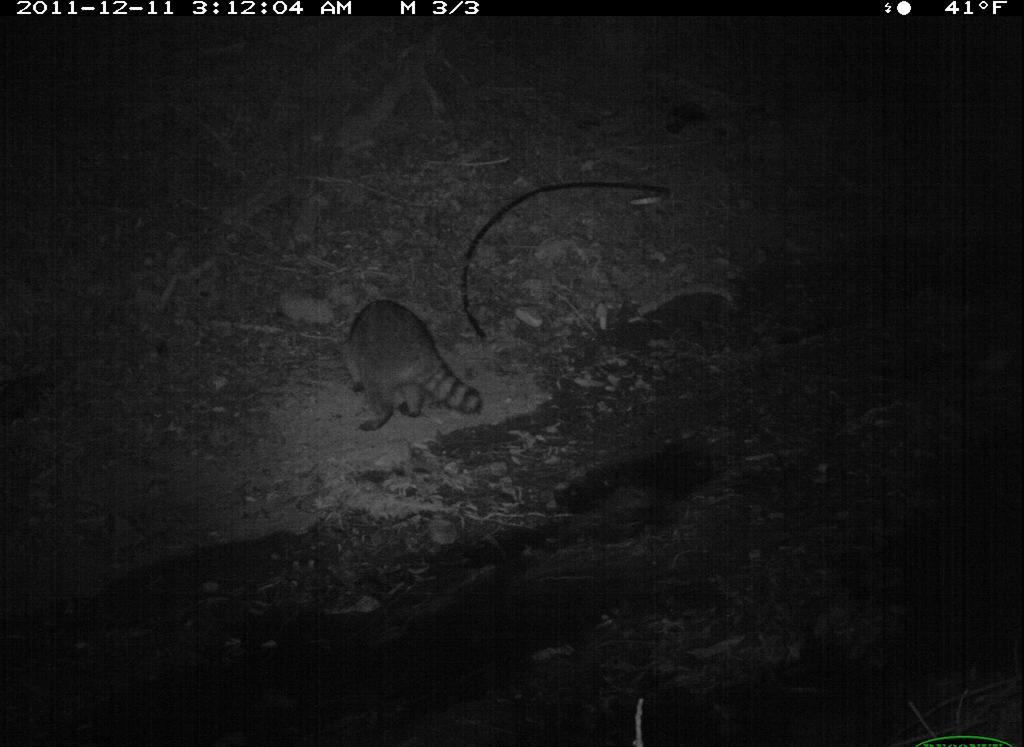raccoon: (328, 299, 489, 438)
